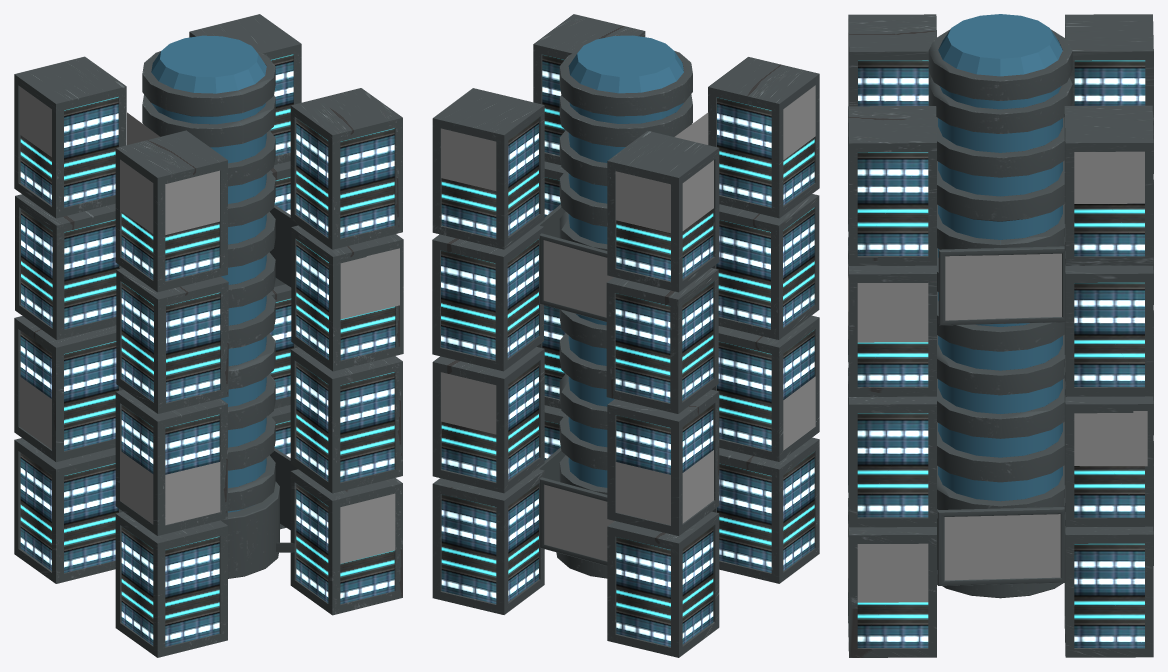
Rendered from BLD1310009.fbx.
3 views of the same model, side by side, from view 1: azimuth 30°, elevation 25°; view 2: azimuth 150°, elevation 25°; view 3: azimuth 270°, elevation 25° (orthographic). The views are drawn at different scales.
Visible parts, largest first — view 1: smBLD1310009; view 2: smBLD1310009; view 3: smBLD1310009.
Part boxes in pixels (x1=…): smBLD1310009: x1=14, y1=14, x2=403, y2=657; smBLD1310009: x1=432, y1=14, x2=819, y2=657; smBLD1310009: x1=848, y1=14, x2=1153, y2=657.
Bounding box in the file's own units: 1324 × 2656 × 1321.
Materials: 5 (1 with a texture image).
